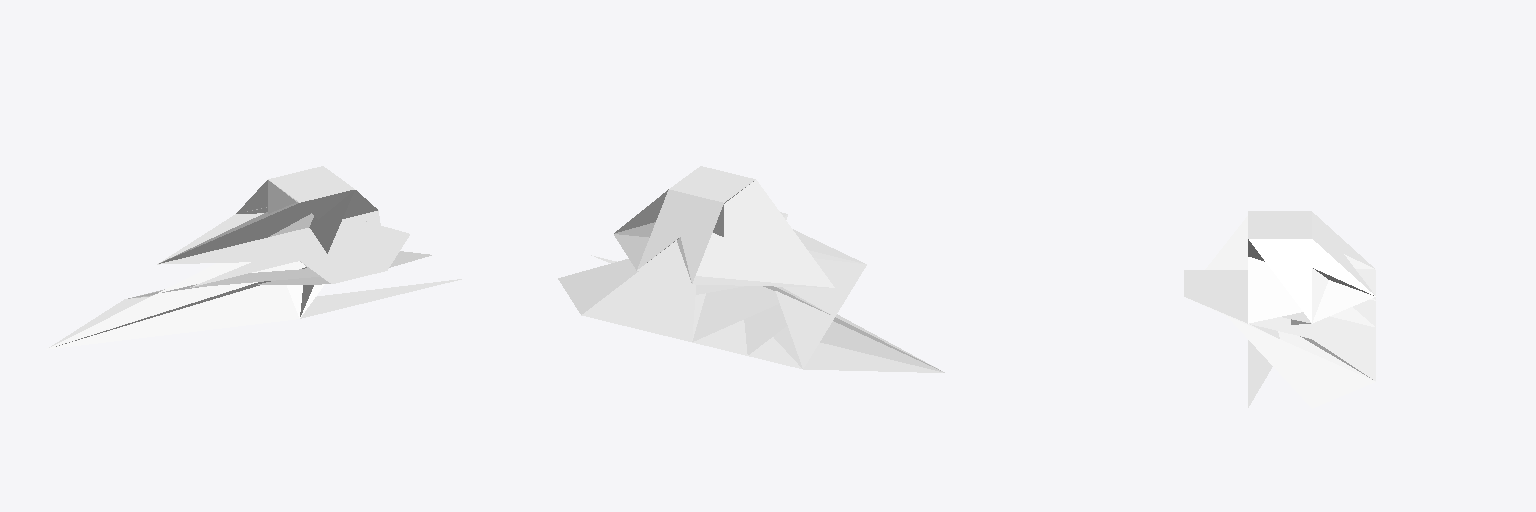
The model's file is wave_1.obj.
The picture shows the model from 3 angles: view 1: azimuth 30°, elevation 25°; view 2: azimuth 150°, elevation 25°; view 3: azimuth 270°, elevation 25°; orthographic projection.
Bounding box in the file's own units: 7 × 2 × 3.